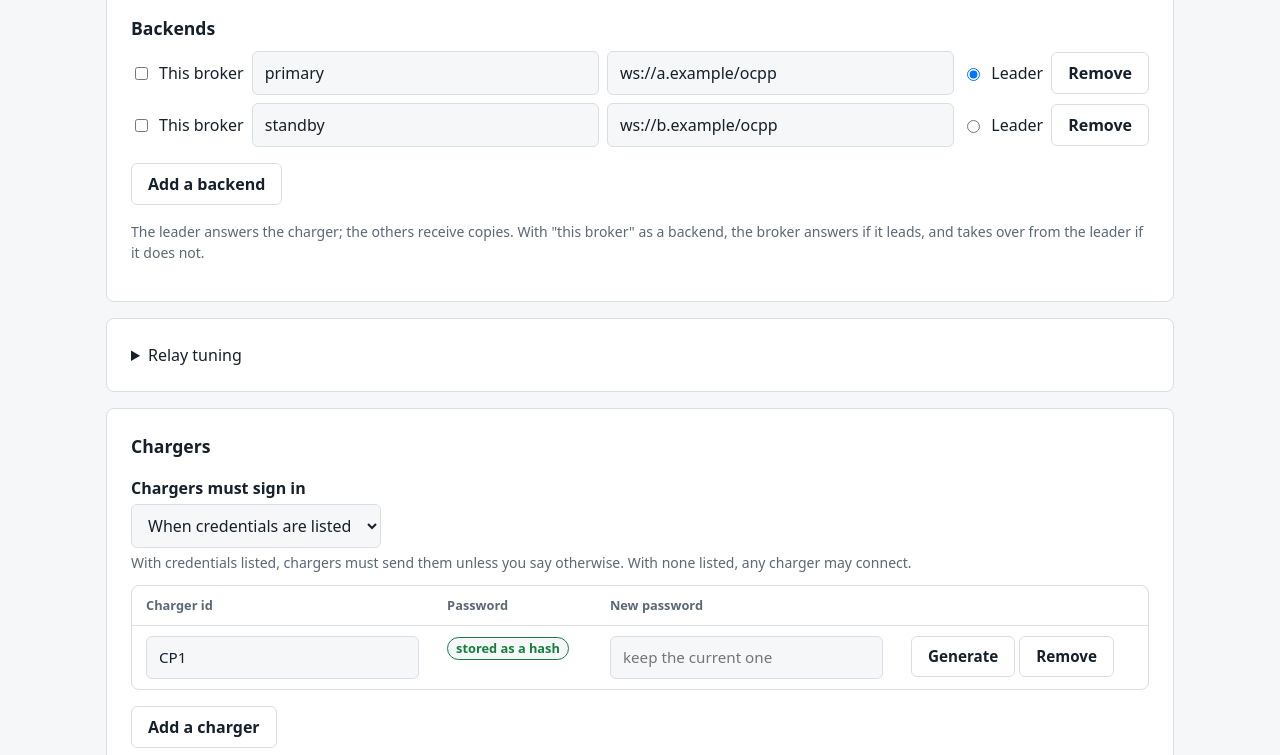
Test case: changing an organization › applies what was checked, with the revision it was based on, and goes back to the list with a notice
(page scrolled)
Type "50" into the field named "Held frames" at (640, 355), box [106,318,1174,392]
(page scrolled)
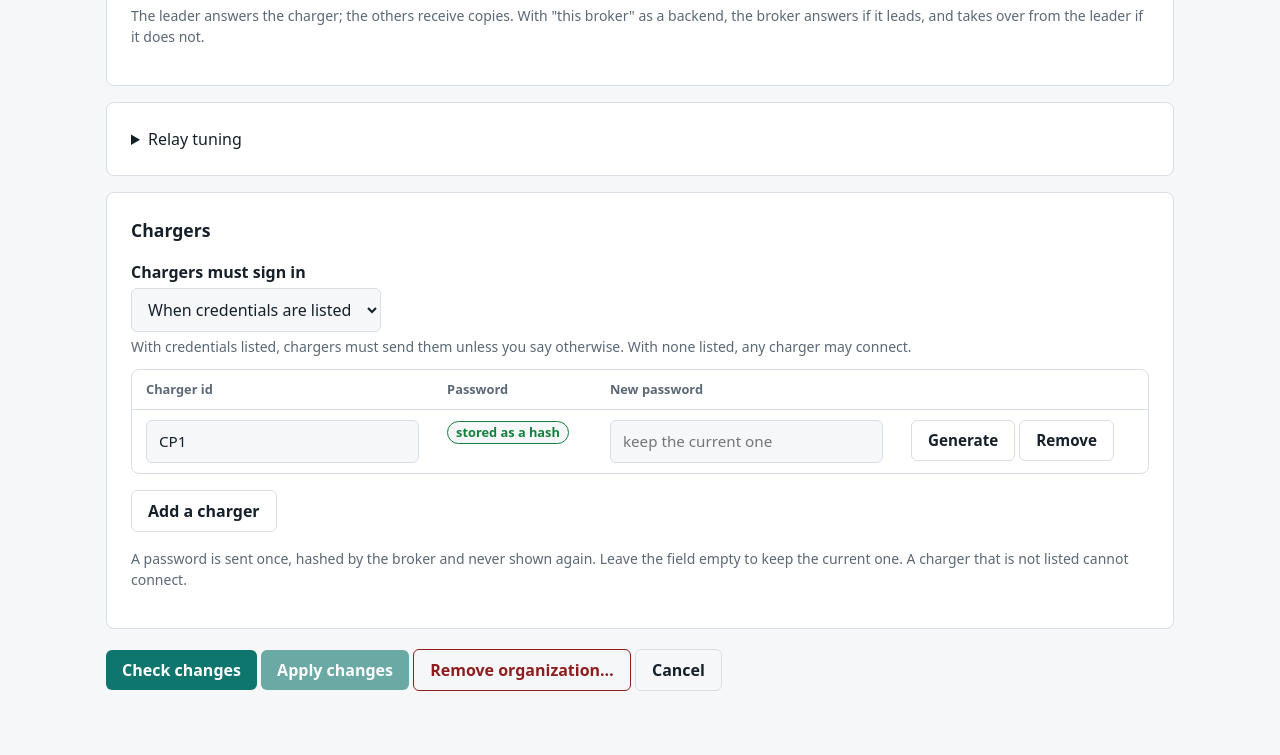
Click the button "Check changes" at (181, 670), box [106,650,257,690]
(page scrolled)
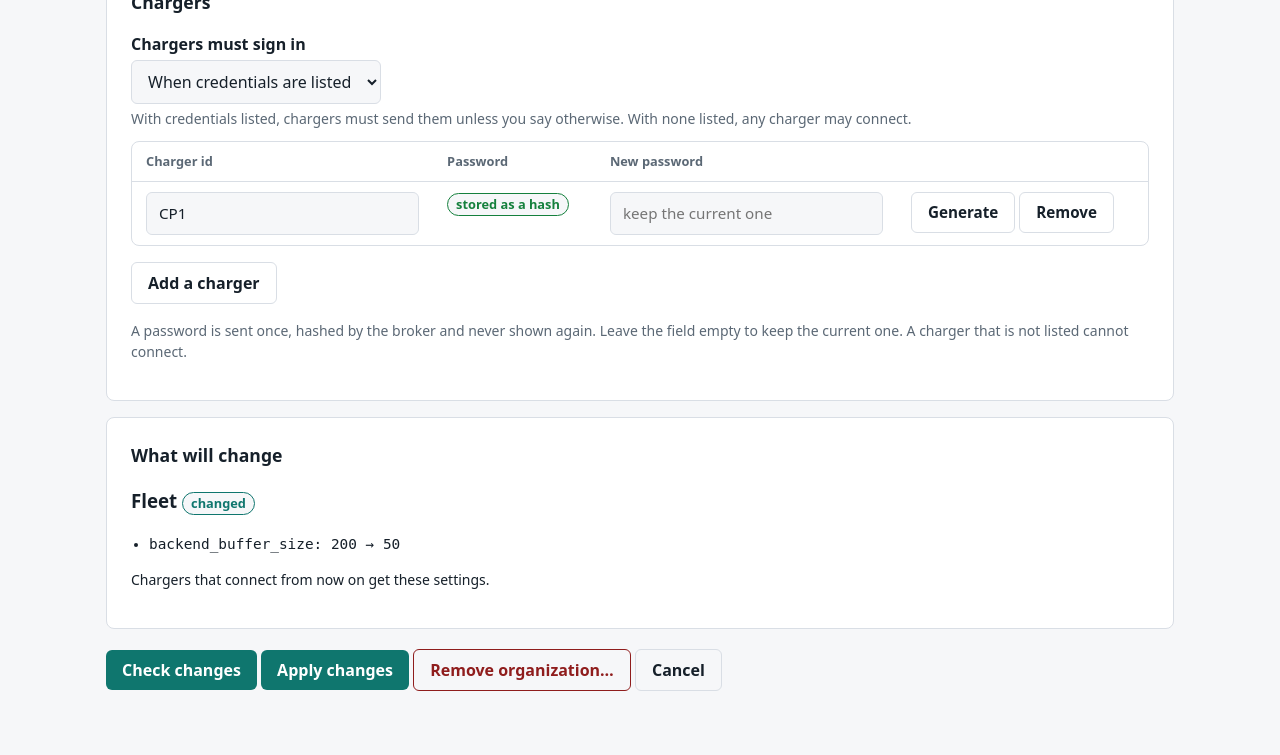
Now the element "What will change" is shown, box [106,417,1174,629]
Click the button "Apply changes" at (335, 670), box [261,650,409,690]
(page scrolled)
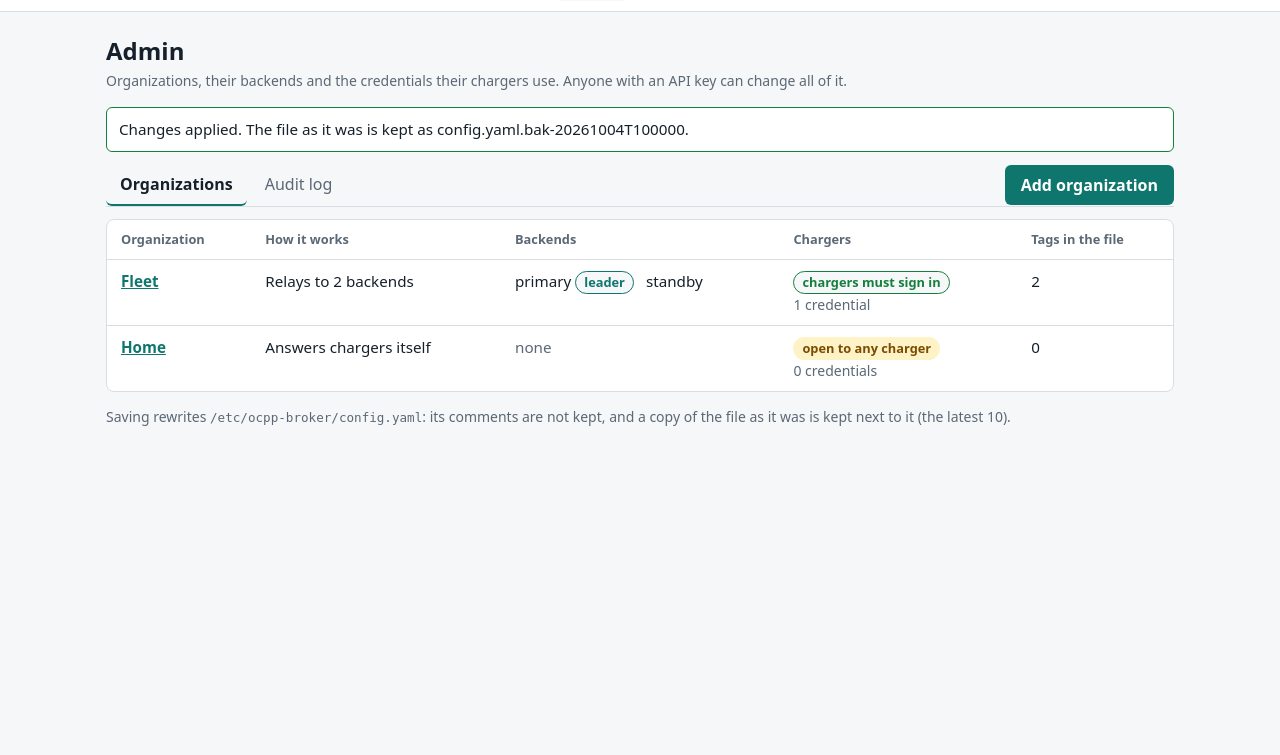
Now the text "Changes applied" reads "Changes applied. The file as it was is kept as config.yaml.bak-20261004T100000.", box [106,107,1174,152]
Now the heading "Admin" is shown, box [106,34,184,67]
